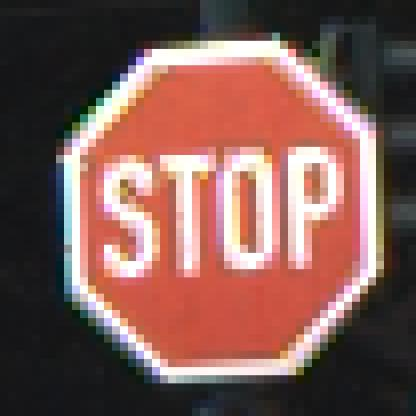Stop: (68, 47, 375, 374)
